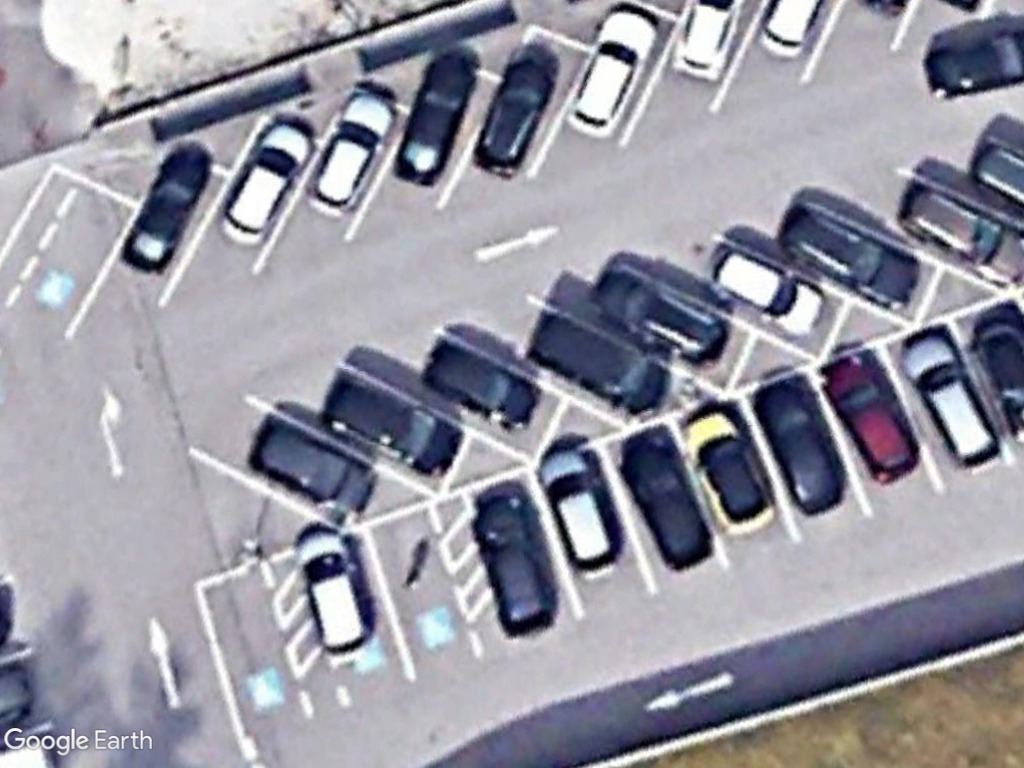car: (521, 305, 674, 424), (772, 197, 924, 313), (584, 267, 737, 376), (315, 372, 463, 480), (560, 4, 671, 144), (750, 367, 851, 518), (899, 325, 999, 477), (114, 138, 219, 280), (674, 404, 780, 544), (239, 419, 379, 524), (891, 182, 1024, 292), (211, 110, 314, 252), (300, 80, 400, 226), (387, 45, 483, 197), (615, 424, 713, 572), (470, 489, 562, 639), (819, 348, 920, 484), (701, 236, 831, 341), (419, 337, 544, 436), (539, 442, 622, 584), (296, 521, 375, 668), (473, 49, 556, 183)
